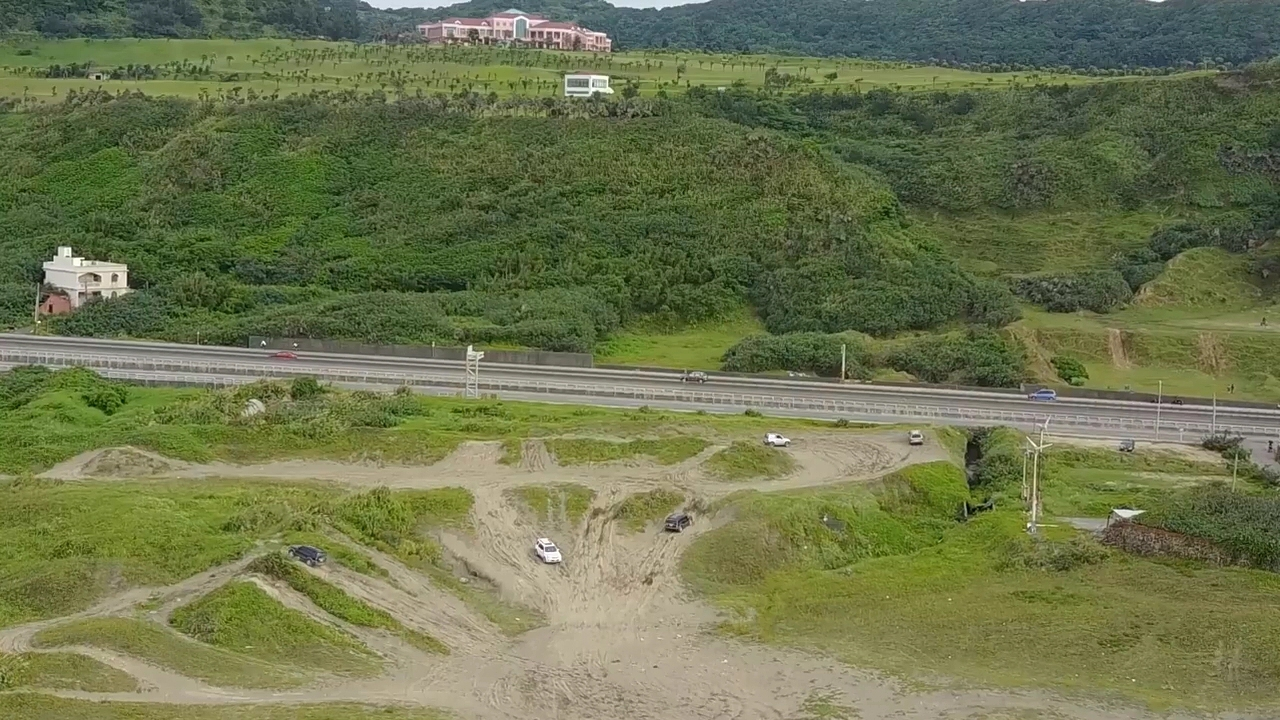araba: (661, 508, 705, 536), (530, 536, 562, 568), (288, 543, 330, 565), (766, 432, 797, 448), (1029, 386, 1059, 401), (906, 426, 925, 447), (682, 370, 711, 383)
